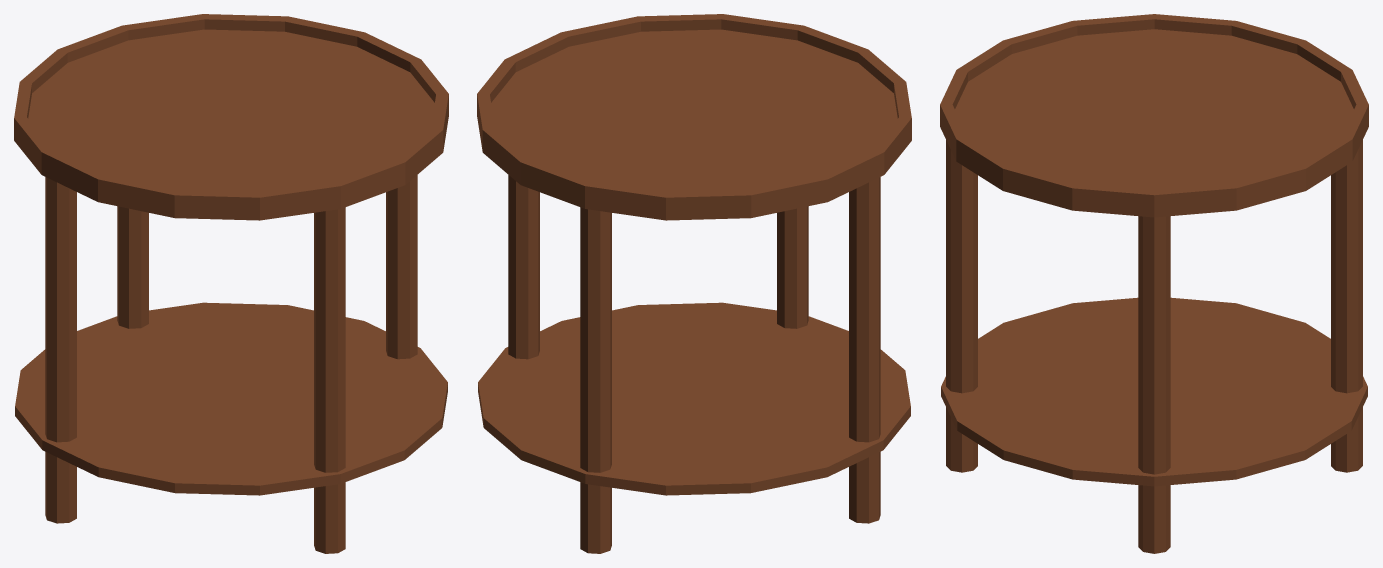
The model's file is tablecorner02.obj.
The picture shows the model from 3 angles, left to right: view 1: azimuth 30°, elevation 25°; view 2: azimuth 150°, elevation 25°; view 3: azimuth 270°, elevation 25°; orthographic projection. The views are drawn at different scales.
Visible parts, largest first — view 1: Cylinder_Cylinder.006; view 2: Cylinder_Cylinder.006; view 3: Cylinder_Cylinder.006.
Part boxes in pixels (left/top/right/bottom): Cylinder_Cylinder.006: left=14, top=14, right=448, bottom=553; Cylinder_Cylinder.006: left=477, top=14, right=911, bottom=553; Cylinder_Cylinder.006: left=940, top=14, right=1368, bottom=553.
Bounding box in the file's own units: 0.6688 × 0.6217 × 0.6688.
